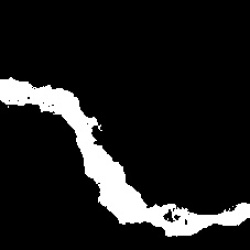crack: (0, 79, 250, 236)
